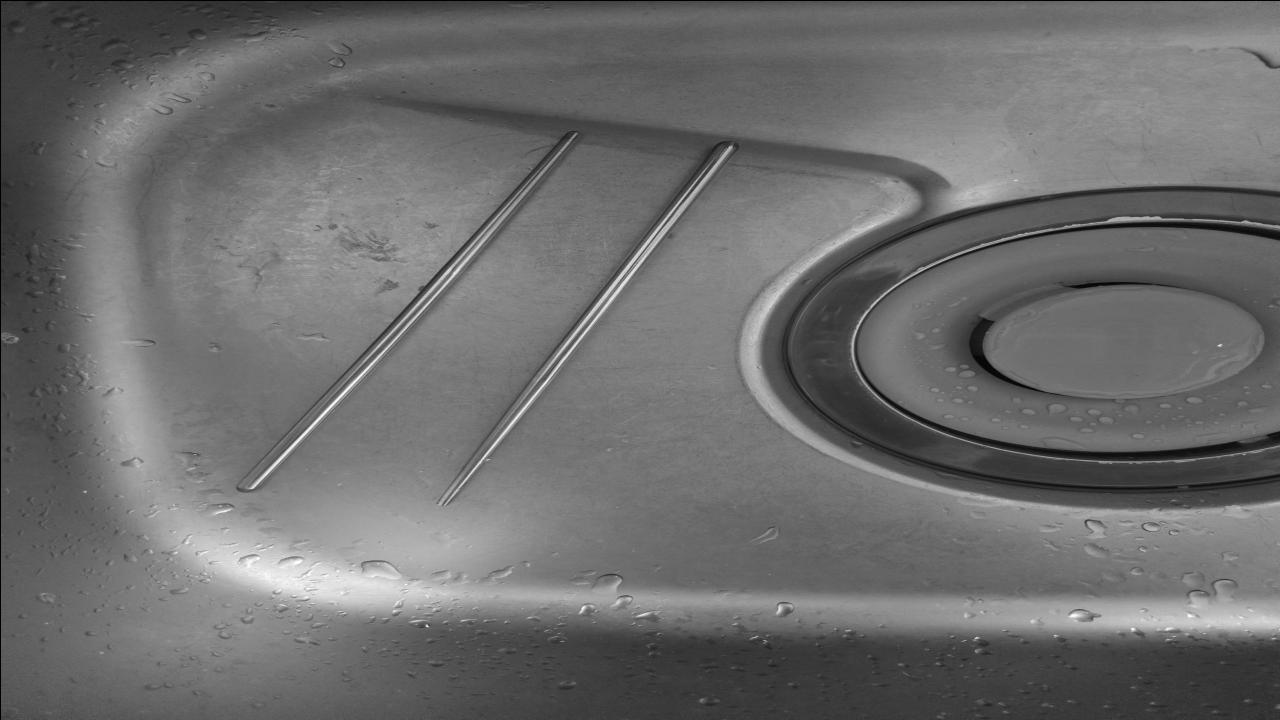chopstick: (231, 134, 578, 490), (435, 140, 736, 504)
